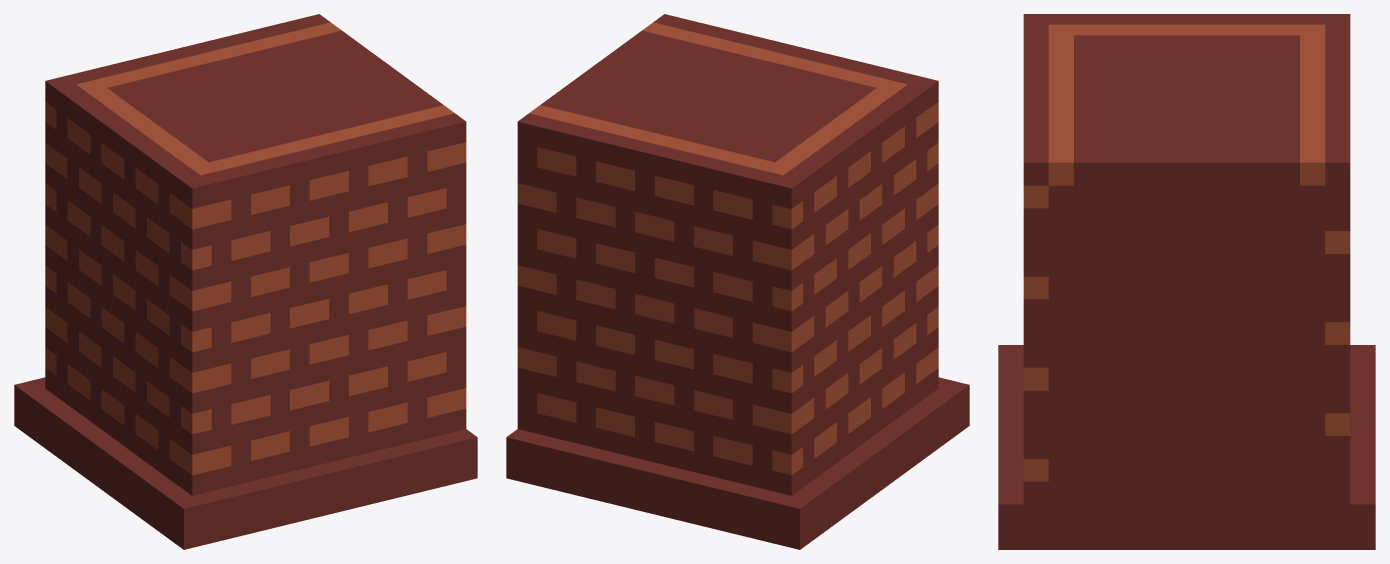
Rendered from dungeon_b_a_inner_wall_ending.obj.
3 views of the same model, side by side, from view 1: azimuth 30°, elevation 25°; view 2: azimuth 150°, elevation 25°; view 3: azimuth 270°, elevation 25° (orthographic). The views are drawn at different scales.
Bounding box in the file's own units: 1.5 × 1.7 × 1.5.
1 material, 1 textured.
